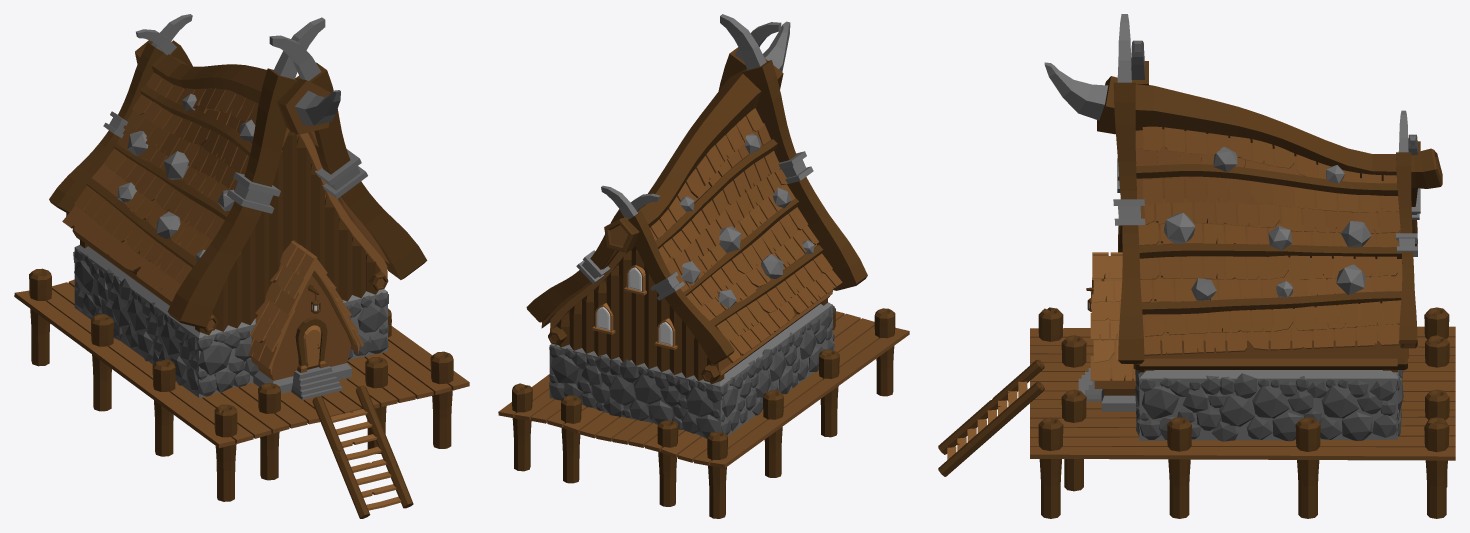
The model's file is A_ChiefBase.fbx.
3 renders of one model, left to right at view 1: azimuth 30°, elevation 25°; view 2: azimuth 150°, elevation 25°; view 3: azimuth 270°, elevation 25°, orthographic. The views are drawn at different scales.
Visible parts, largest first — view 1: A_ChiefBase; view 2: A_ChiefBase; view 3: A_ChiefBase.
Boxes of the visible parts, bbox=[...] form: A_ChiefBase: bbox=[14, 14, 469, 518]; A_ChiefBase: bbox=[498, 14, 909, 518]; A_ChiefBase: bbox=[938, 14, 1455, 518].
Size of the model in its own units: 655 by 1049 by 1124.
